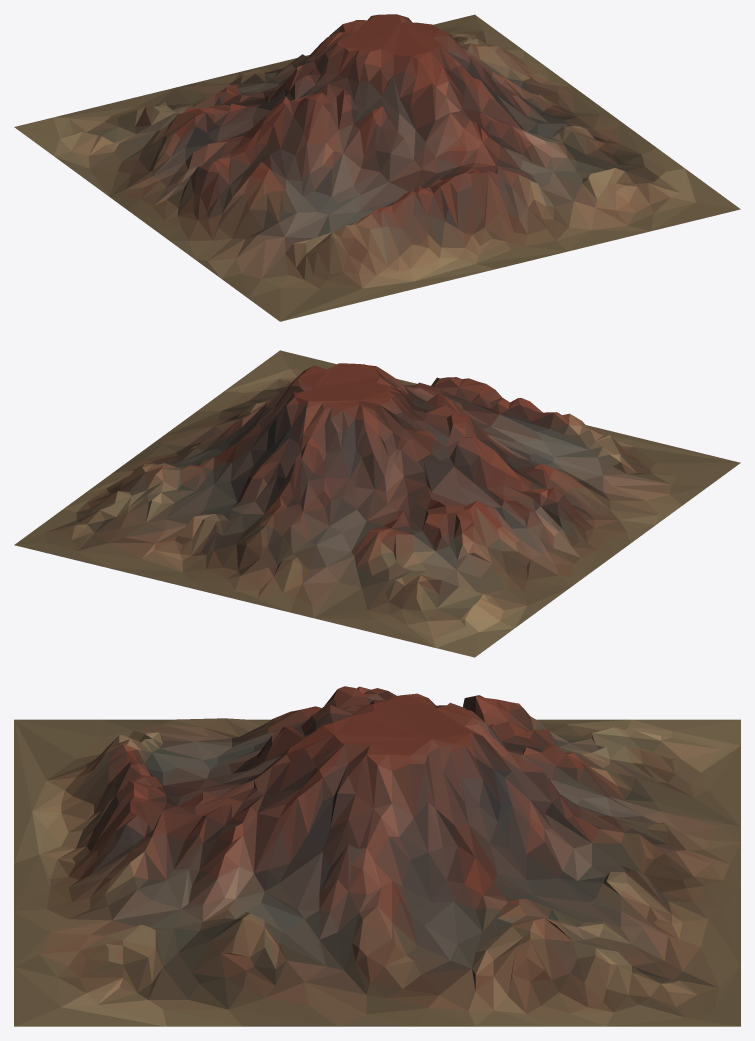
File: Dry-Rocky_B.fbx
3 renders of one model, top to bottom at view 1: azimuth 30°, elevation 25°; view 2: azimuth 150°, elevation 25°; view 3: azimuth 270°, elevation 25°, orthographic. The views are drawn at different scales.
Parts seen in each view (by area): view 1: Dry-Rocky_B; view 2: Dry-Rocky_B; view 3: Dry-Rocky_B.
Boxes of the visible parts, x1,y1,x2,y2 form: Dry-Rocky_B: (14, 14, 740, 321); Dry-Rocky_B: (14, 350, 740, 657); Dry-Rocky_B: (14, 686, 740, 1026).
Bounding box in the file's own units: 10000 × 2480 × 10000.
